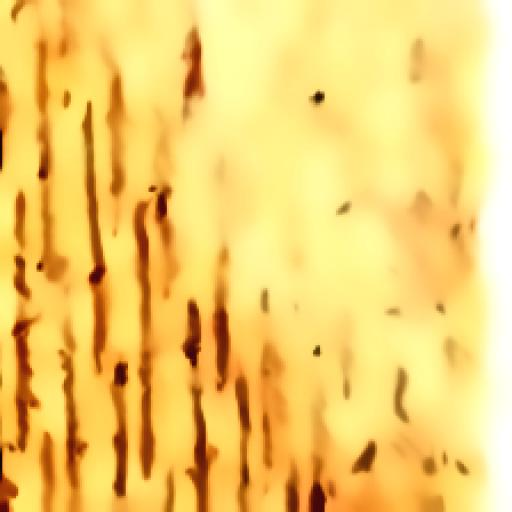egg: (301, 85, 337, 113)
